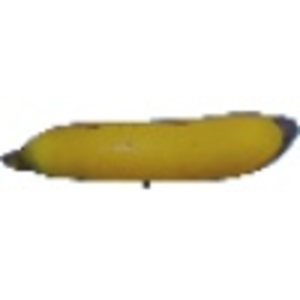banana: (2, 106, 297, 187)
